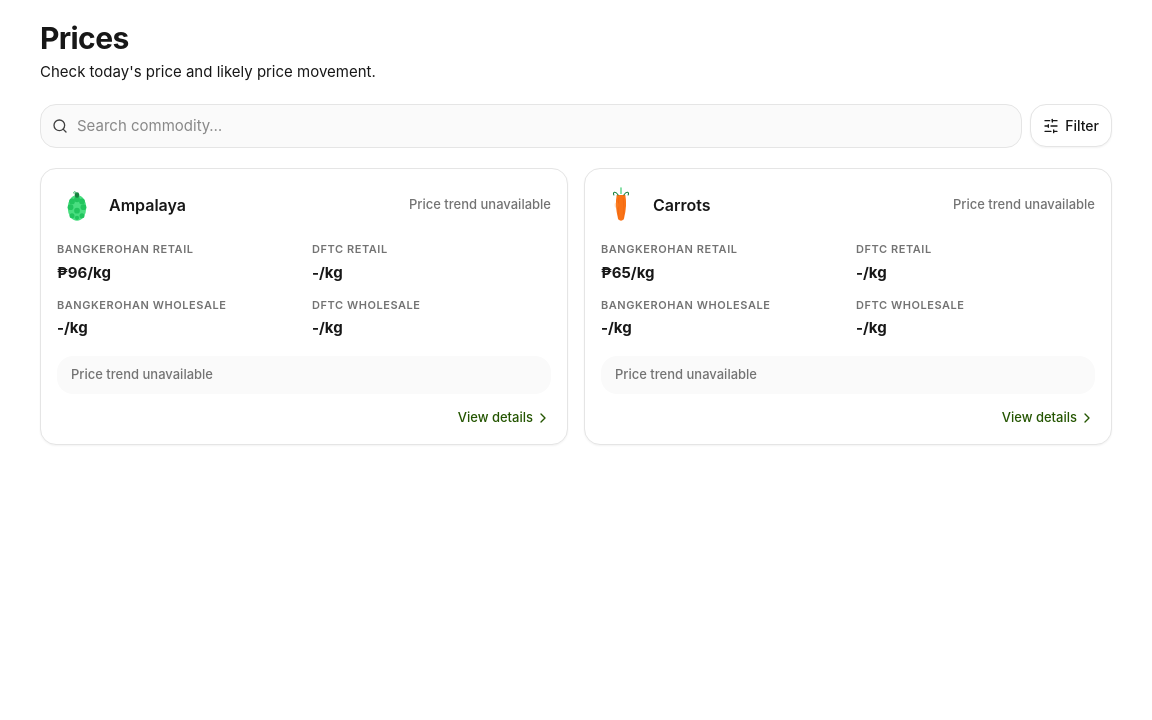
Farmer prices page › filters commodities by category
Expected: the text "Ampalaya" is shown, top-left (109, 193), bottom-right (186, 217)
Expected: the text "Carrots" is shown, top-left (653, 193), bottom-right (710, 217)
Note: Open filter drawer
Click the button with aria-label "Open filter drawer" at {"x": 1071, "y": 126}, box top-left (1030, 104), bottom-right (1112, 147)
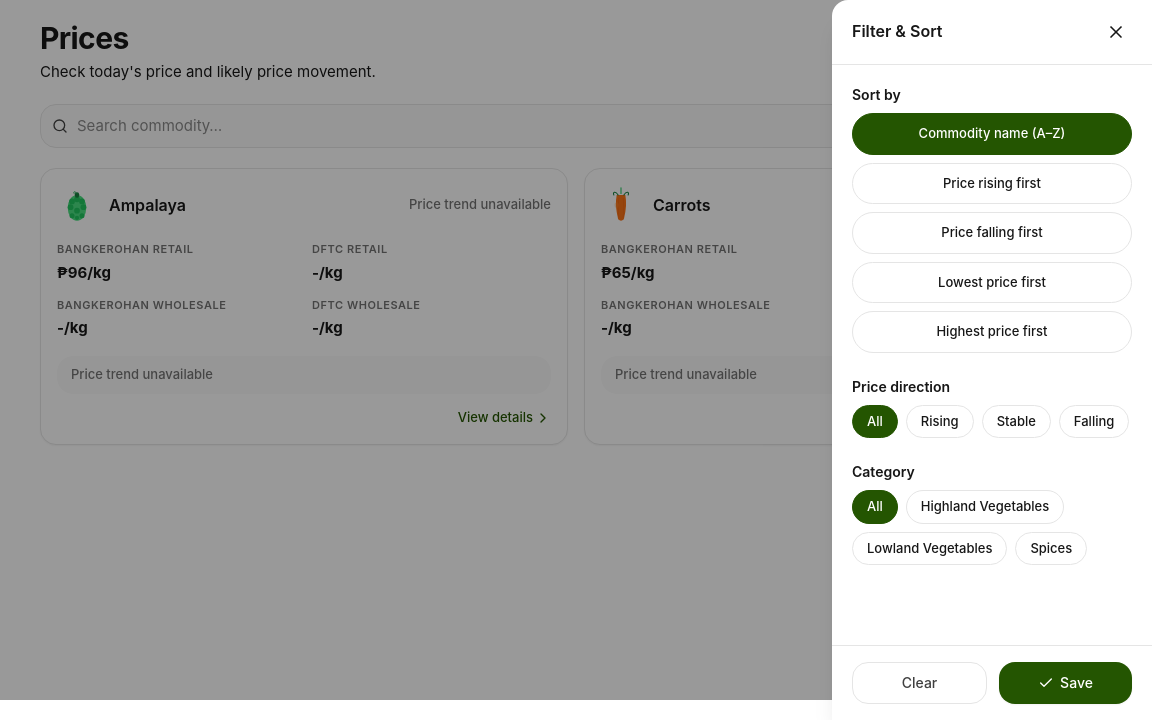
Note: Click "Lowland Vegetables" chip inside the drawer
Click the button "Lowland Vegetables" at {"x": 930, "y": 548}, box top-left (852, 532), bottom-right (1007, 565)
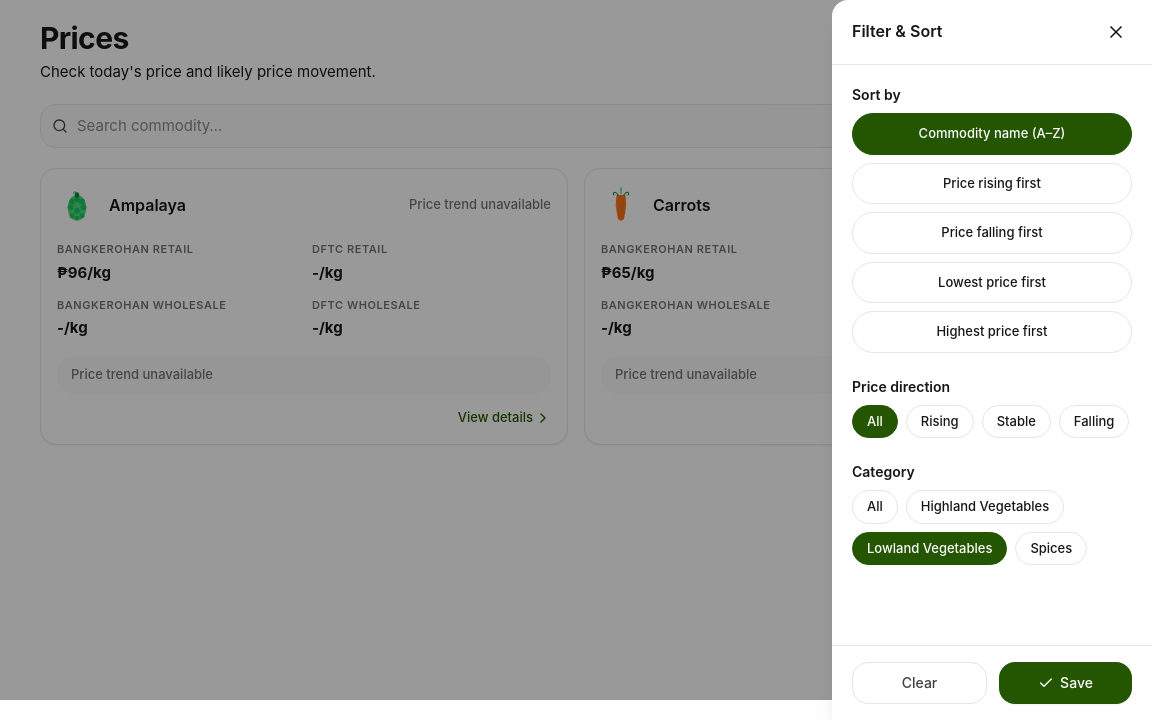
Note: Click Save
Click the button "Save" at {"x": 1066, "y": 683}, box top-left (999, 662), bottom-right (1132, 704)
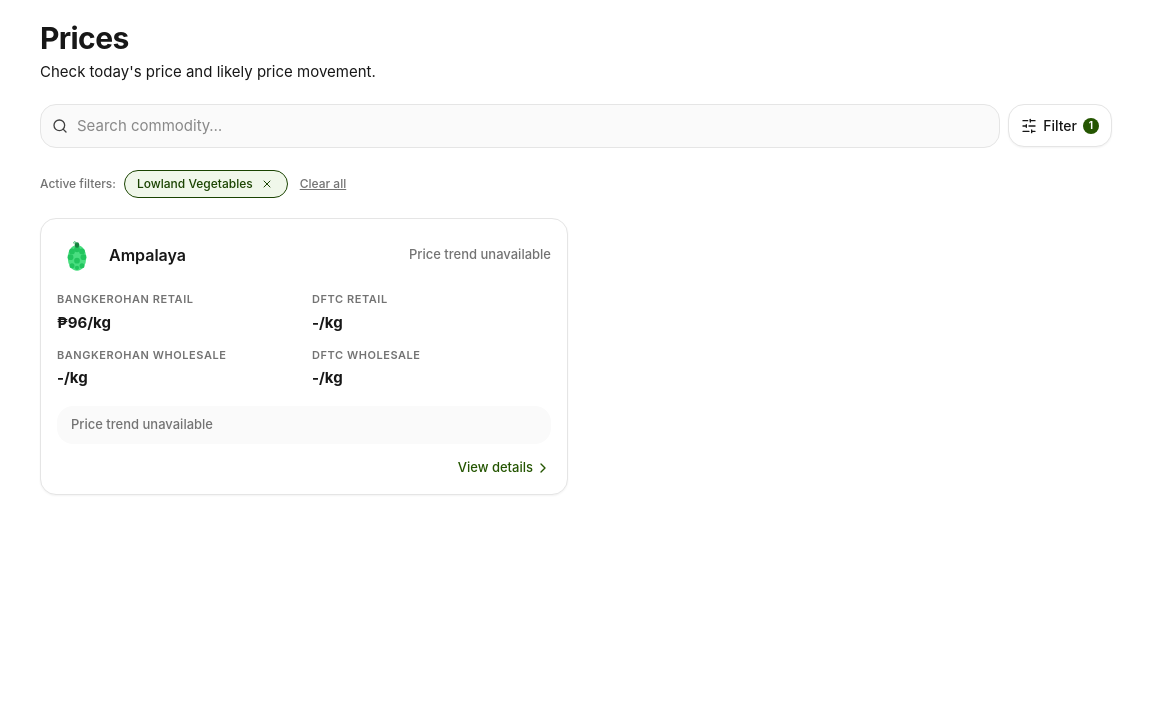
Expected: the text "Ampalaya" is shown, top-left (109, 243), bottom-right (186, 267)
Result: the text "Carrots" is gone
